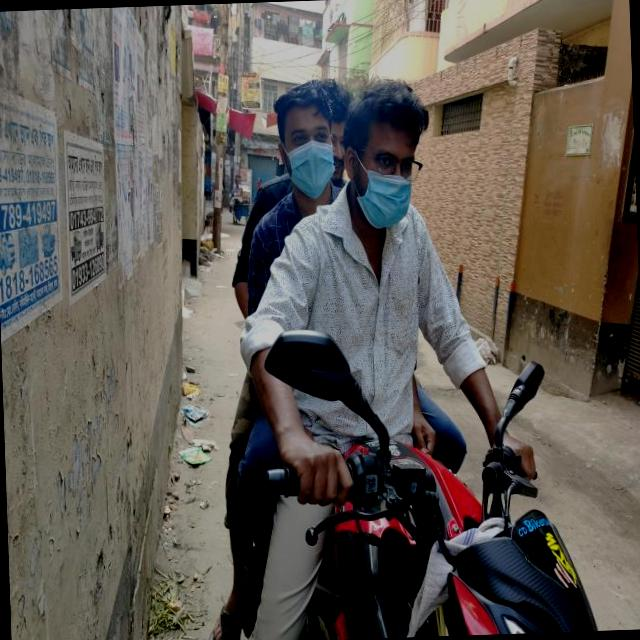motorcycle: (218, 415, 606, 640)
person: (318, 69, 509, 535), (241, 64, 391, 500), (260, 82, 394, 524)
